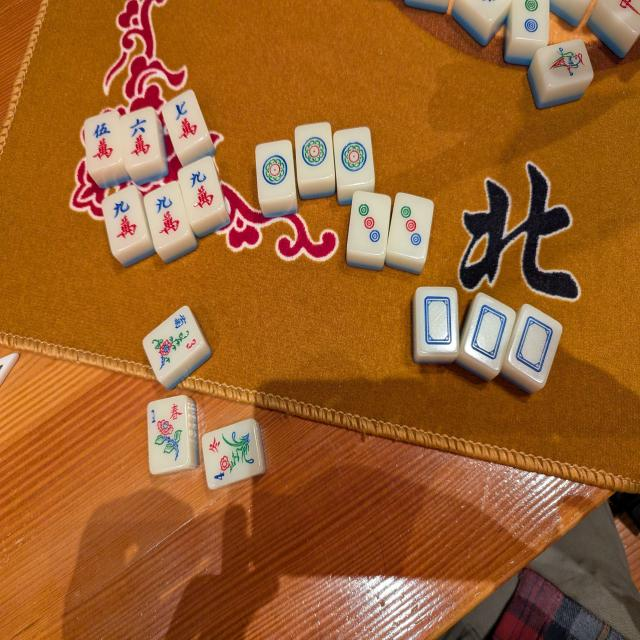1B: (542, 40, 594, 88)
1D: (256, 140, 298, 202), (333, 126, 374, 186), (295, 121, 335, 180)
1S: (149, 396, 191, 474)
3D: (388, 192, 435, 260), (347, 190, 391, 256)
3F: (144, 305, 207, 381)
4S: (202, 421, 260, 490)
5C: (82, 113, 122, 169)
6C: (122, 111, 158, 165)
7C: (166, 91, 208, 150)
9C: (145, 184, 192, 248), (180, 159, 226, 222), (104, 189, 148, 253)
WD: (506, 306, 562, 384), (464, 293, 518, 370), (416, 289, 461, 355)
